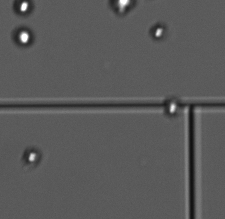Living Cell: (13, 25, 33, 48), (22, 147, 42, 168), (163, 95, 182, 117), (149, 23, 169, 41), (110, 1, 135, 15), (13, 1, 34, 16)
